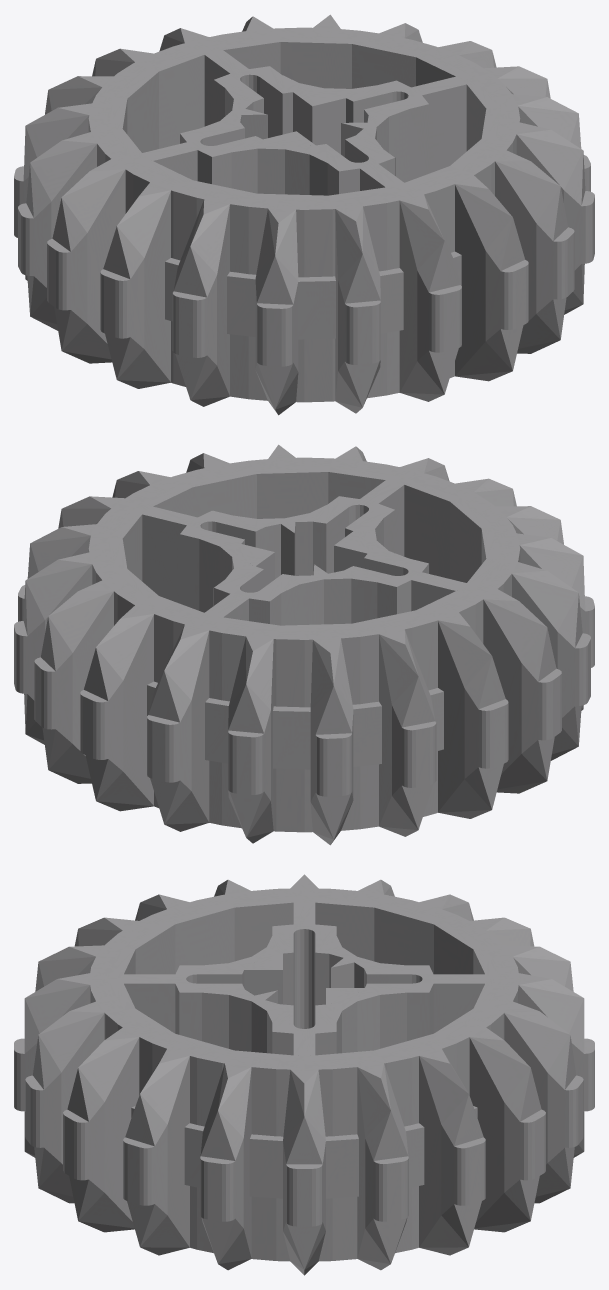
Rendered from gear_wheel_Z20.dae.
3 renders of one model, top to bottom at view 1: azimuth 30°, elevation 25°; view 2: azimuth 150°, elevation 25°; view 3: azimuth 270°, elevation 25°, orthographic.
Parts seen in each view (by area): view 1: node; view 2: node; view 3: node.
Part boxes in pixels (left/top/right/bottom): node: left=14, top=14, right=594, bottom=415; node: left=14, top=444, right=594, bottom=845; node: left=14, top=874, right=594, bottom=1275.
Bounding box in the file's own units: 53.5 × 19.5 × 53.5.
1 material, 1 textured.
